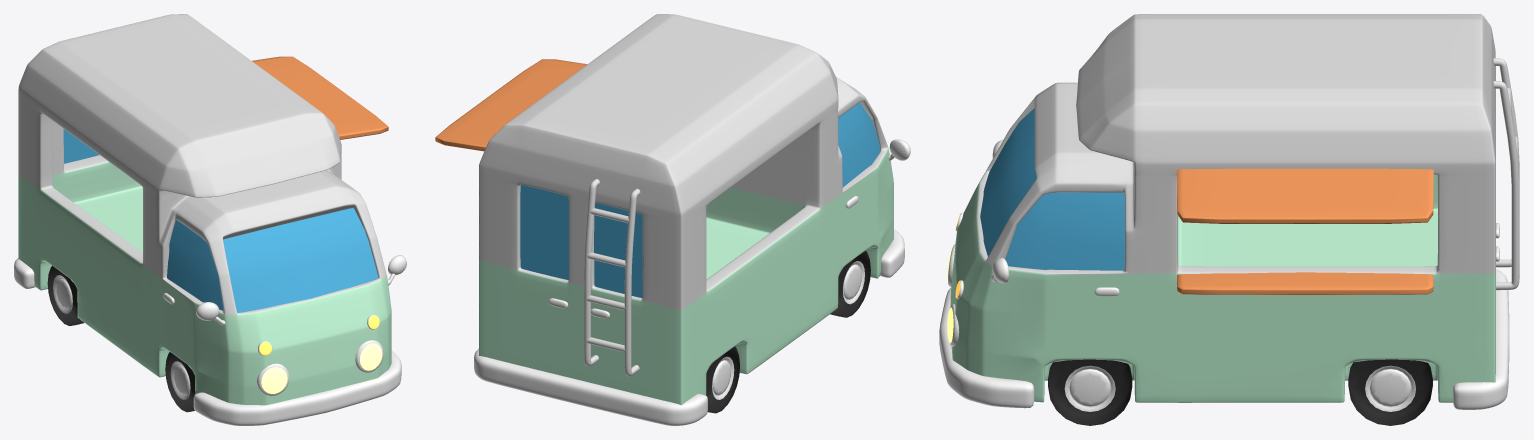
The model's file is Food_Truck_.fbx.
3 views of the same model, side by side, from view 1: azimuth 30°, elevation 25°; view 2: azimuth 150°, elevation 25°; view 3: azimuth 270°, elevation 25° (orthographic). The views are drawn at different scales.
Parts seen in each view (by area): view 1: Body, Windscreen, Bumber, Awning, Wheel, Headlight, Mirror; view 2: Body, Windscreen, Bumber, Awning, Ladder, Wheel; view 3: Body, Awning, Windscreen, Wheel, Bumber, Ladder, Headlight.
Boxes of the visible parts, <box> form: Body: <box>18,14,391,405</box>; Windscreen: <box>63,129,378,312</box>; Bumber: <box>14,258,401,425</box>; Awning: <box>252,56,388,139</box>; Wheel: <box>47,265,195,412</box>; Headlight: <box>257,314,383,395</box>; Mirror: <box>196,255,406,325</box>; Body: <box>479,14,893,405</box>; Windscreen: <box>520,102,880,298</box>; Bumber: <box>474,229,904,425</box>; Awning: <box>435,59,587,151</box>; Ladder: <box>584,179,640,376</box>; Wheel: <box>706,250,870,413</box>; Body: <box>950,14,1495,402</box>; Awning: <box>1177,168,1433,294</box>; Windscreen: <box>980,108,1124,270</box>; Wheel: <box>1048,359,1432,425</box>; Bumber: <box>939,269,1509,409</box>; Ladder: <box>1493,58,1519,290</box>; Headlight: <box>947,213,963,346</box>.
Size of the model in its own units: 279 by 253 by 418.
